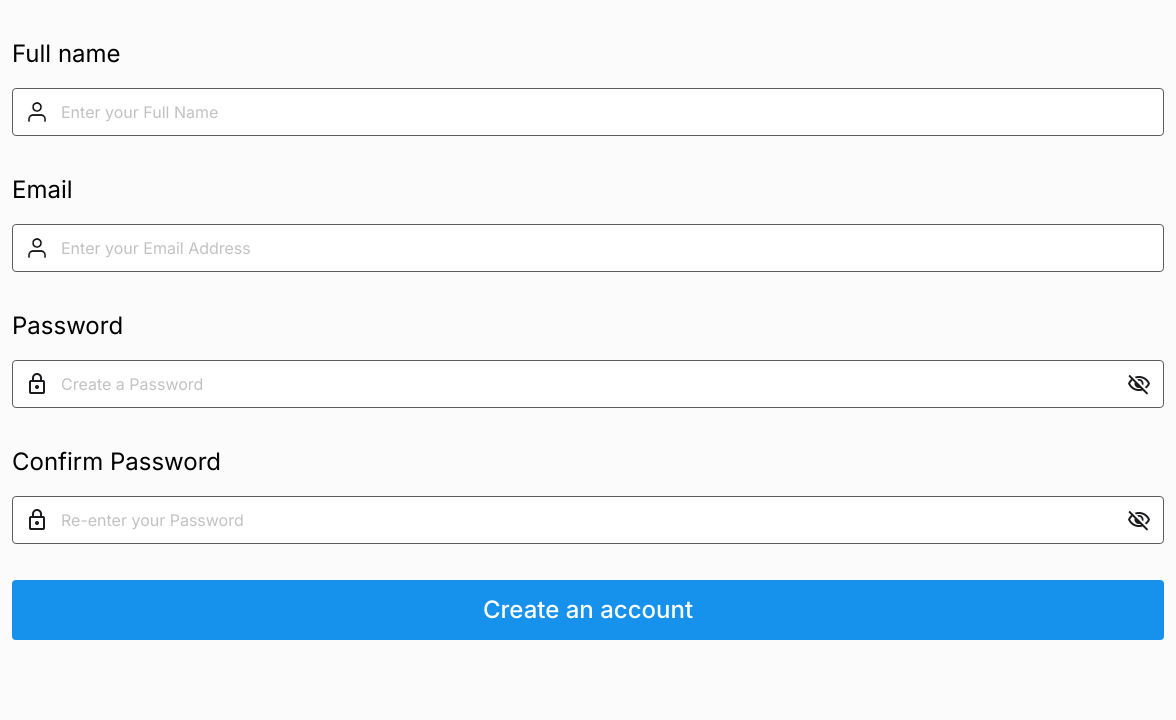
Test: Account access UI integration › shows an account creation error when passwords do not match
This screenshot has width=1176, height=720.
Type "Test User" into the field labelled "Full name". click: (606, 112)
box: 61,100 -> 1151,124
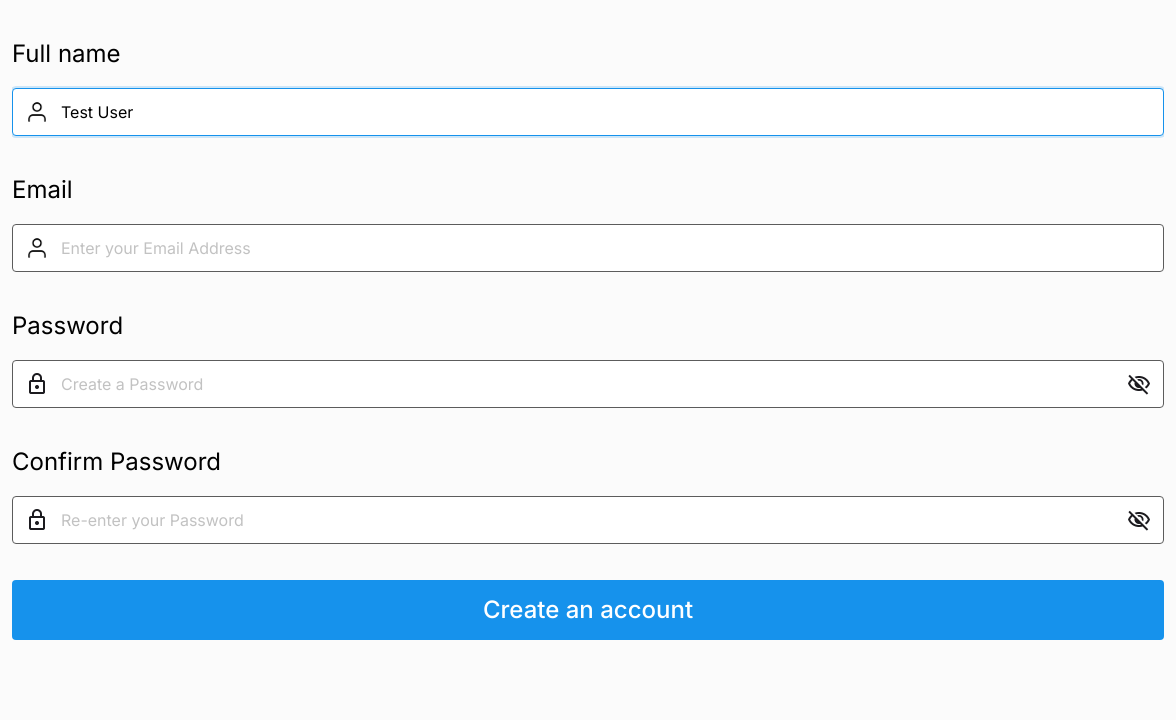
Type "test@example.com" into the field labelled "Email". click: (606, 248)
box: 61,236 -> 1151,260
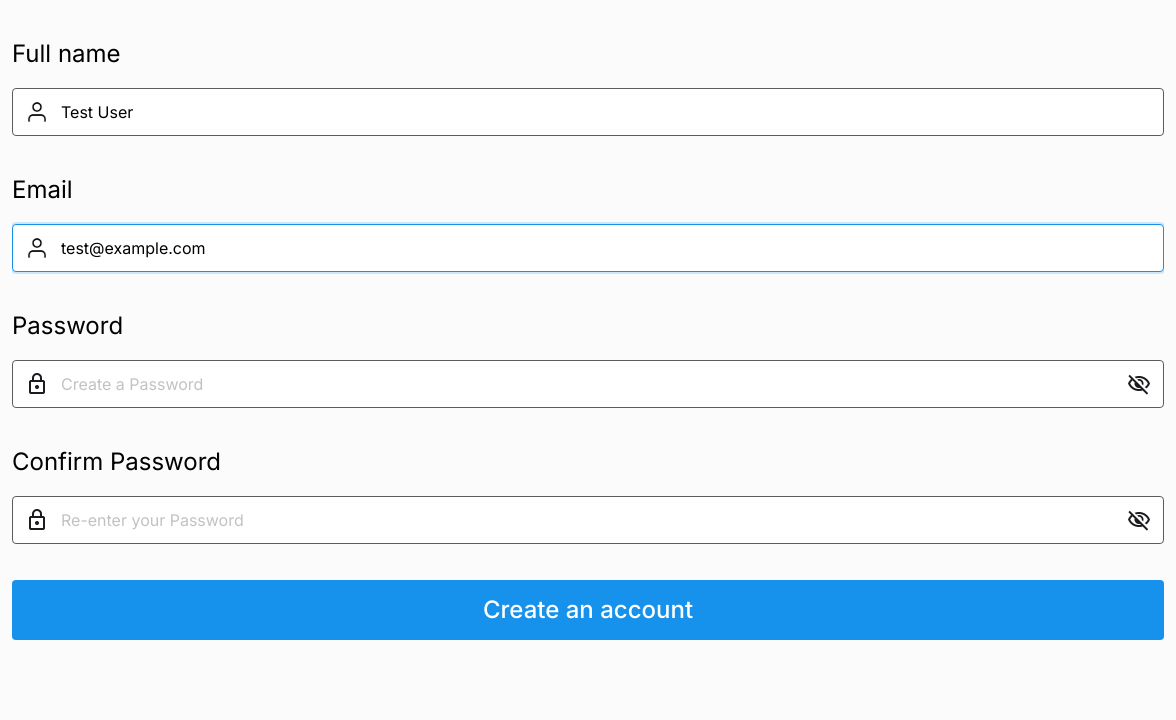
Type "Password123!" into the password field labelled "Password". click: (588, 384)
box: 61,372 -> 1115,396
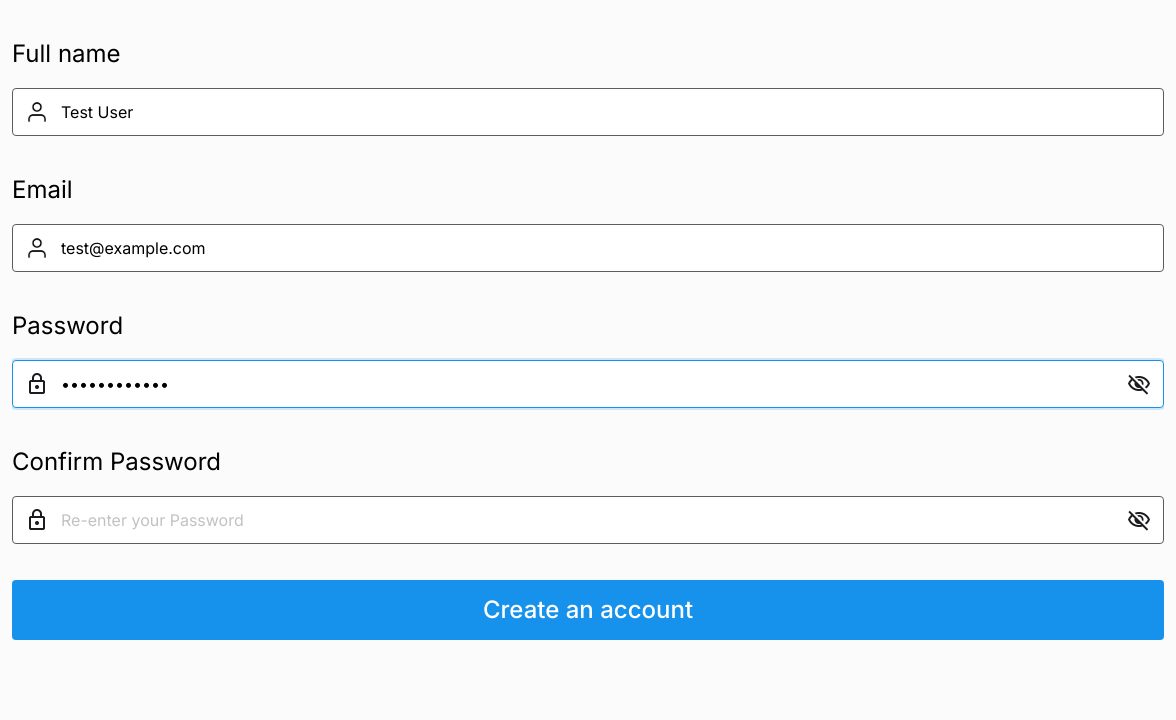
Type "Different123!" into the password field labelled "Confirm Password". click: (588, 520)
box: 61,508 -> 1115,532
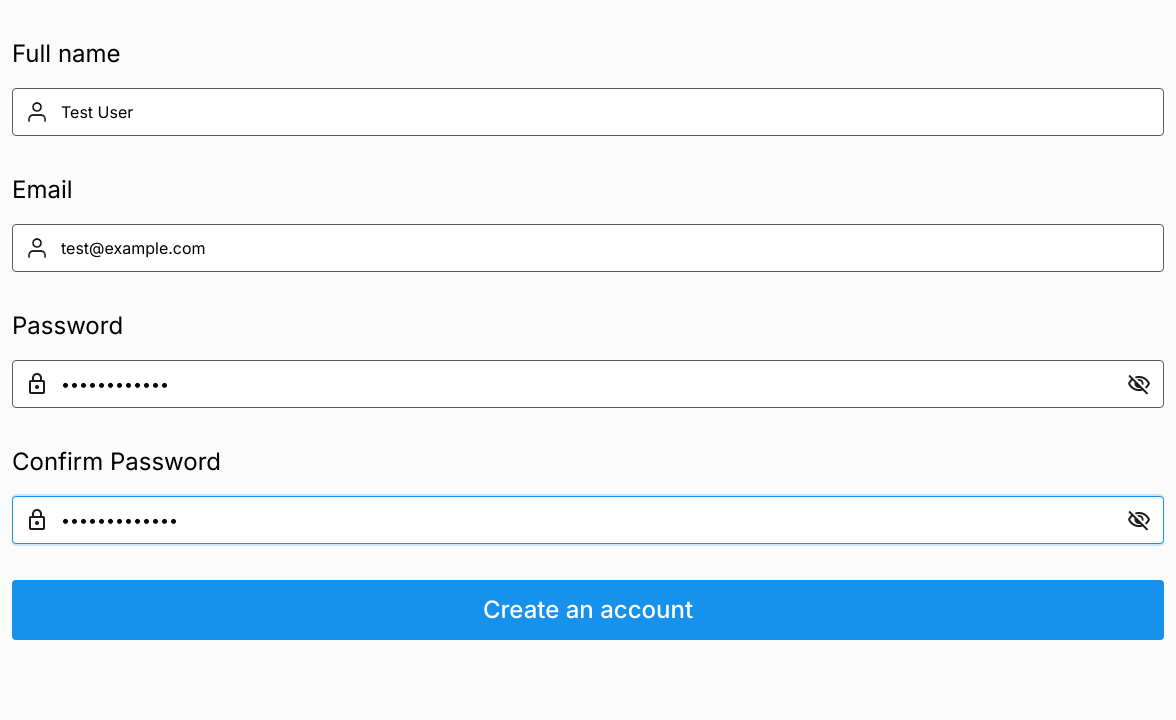
Click the button "Create an account". click: (588, 610)
box: 12,580 -> 1164,640
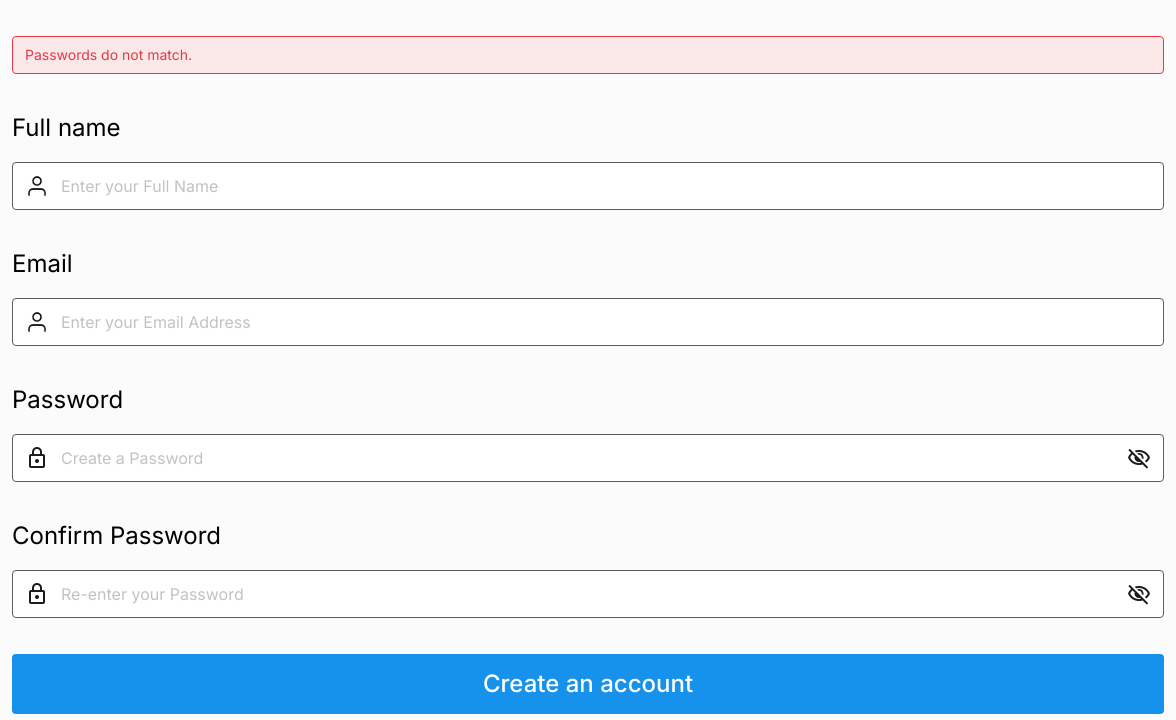
Result: the message reads "Passwords do not match." at 25,46 -> 192,63
